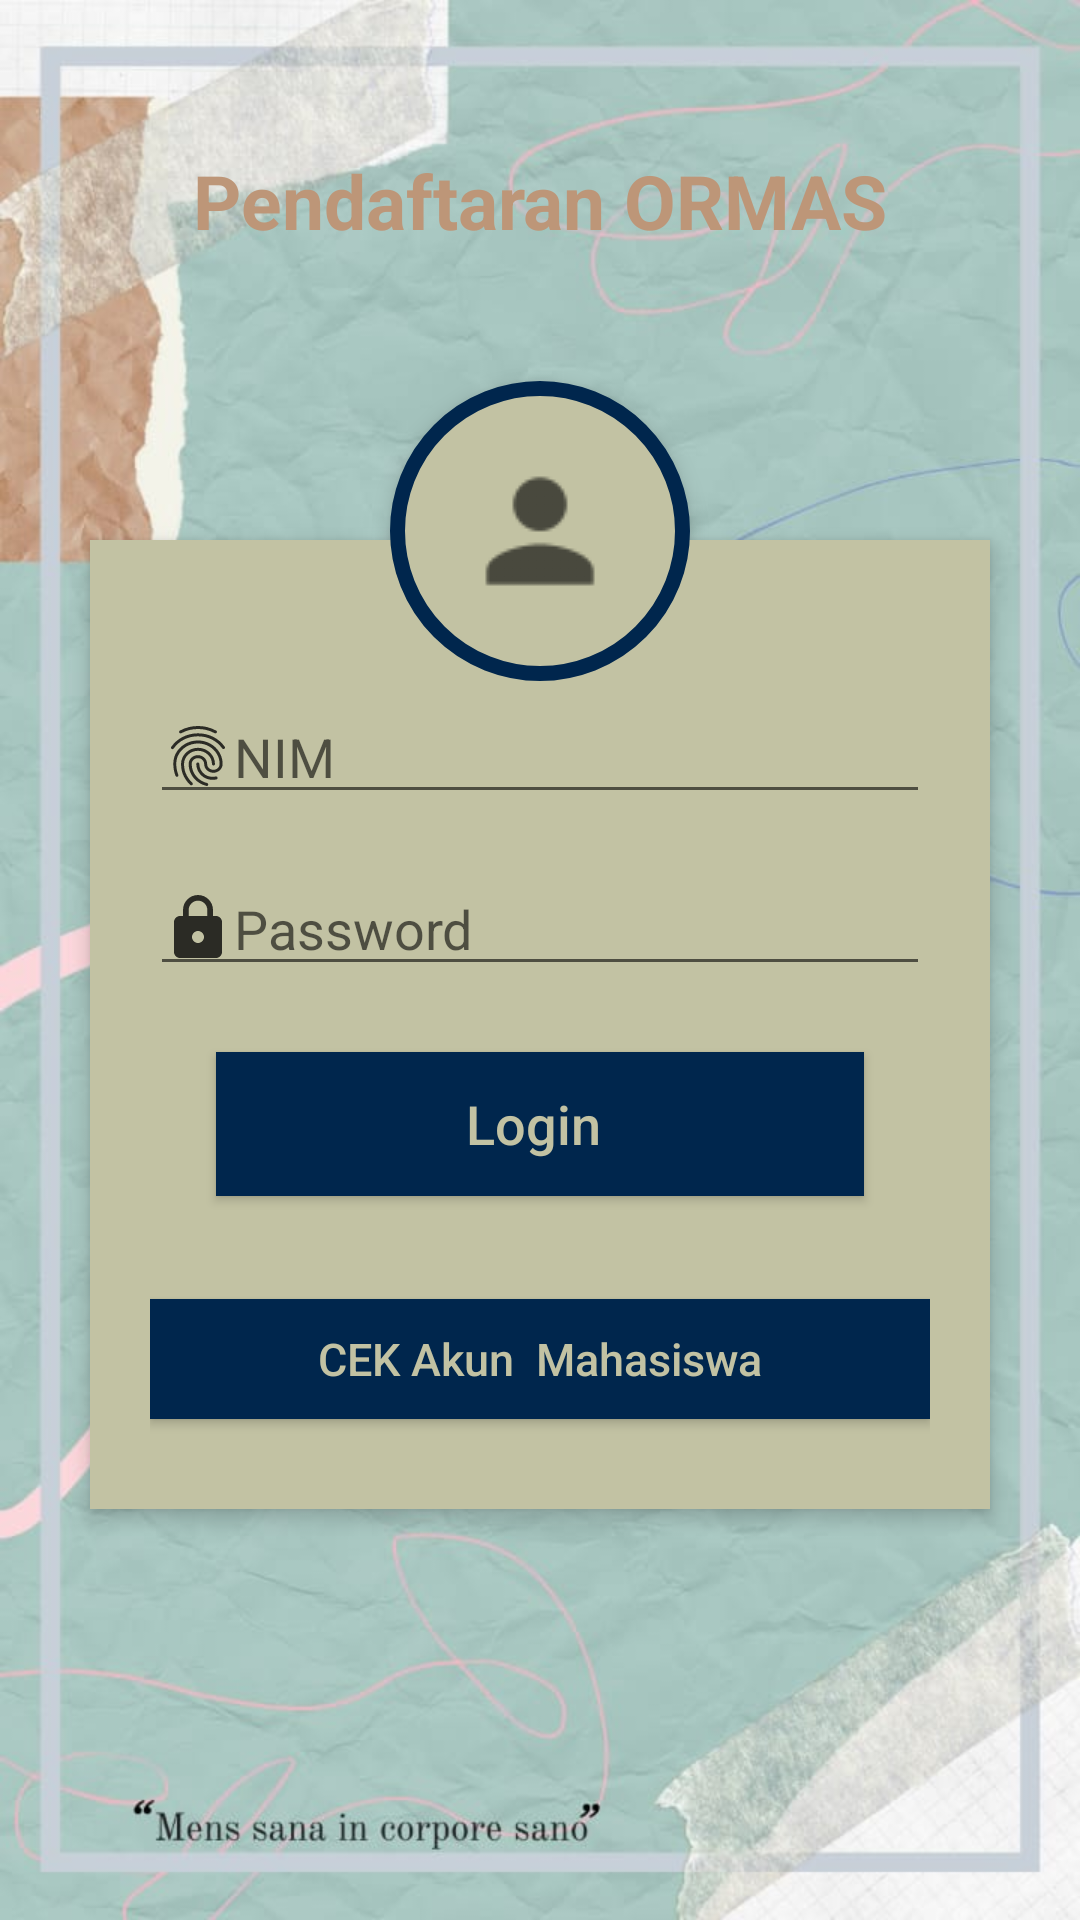

Named icons in this screenshot (1080×1920) and their centers, (x,y):
user: (540,531)
